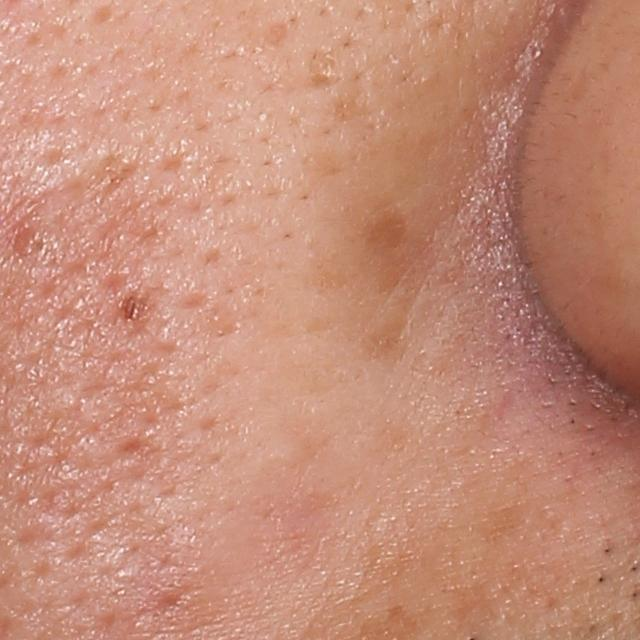atrophic_scar: (261, 19, 288, 51)
